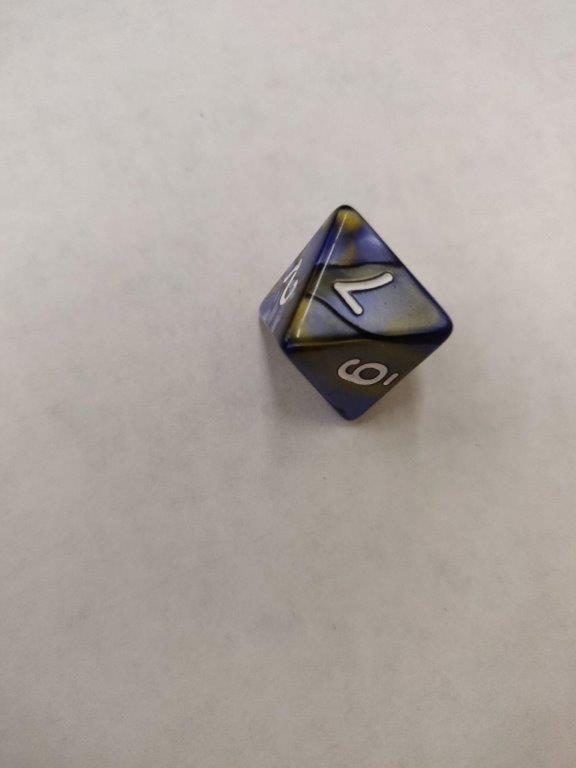d8-7: (259, 204, 456, 427)
